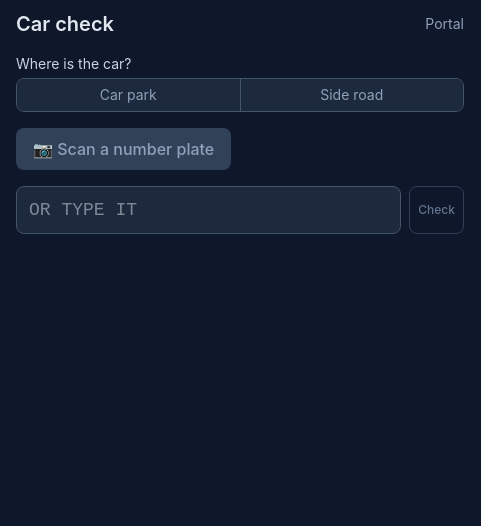
Test: Car check › ⛔ part of a registration is not that car: "XC" is Not found, and XCVB 675 is listed as another car
Click the radio button labelled "Side road": coordinates (351, 95) 240,79 -> 463,111
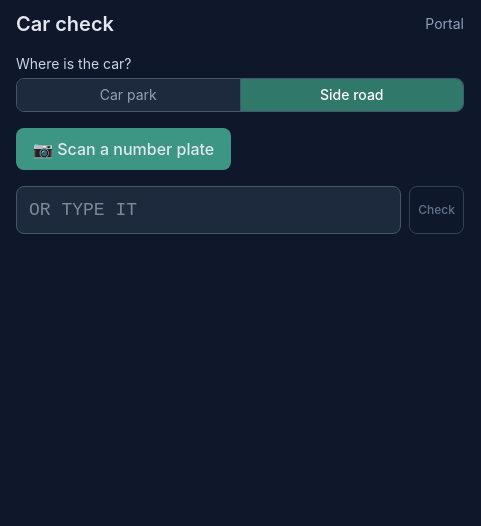
In the field with placeholder "Or type it": coordinates (209, 210) 16,186 -> 401,234, type "xc"
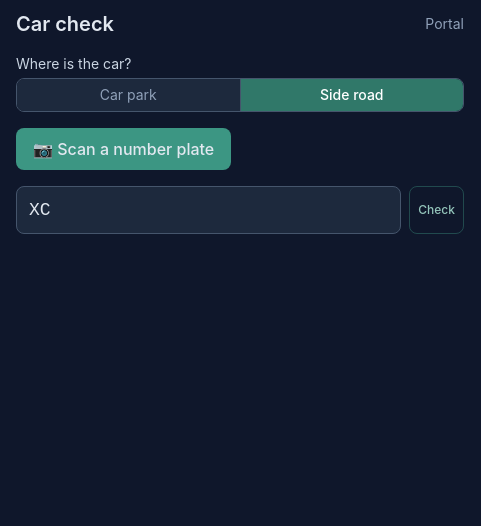
Click the button "Check": coordinates (437, 210) 409,186 -> 464,234
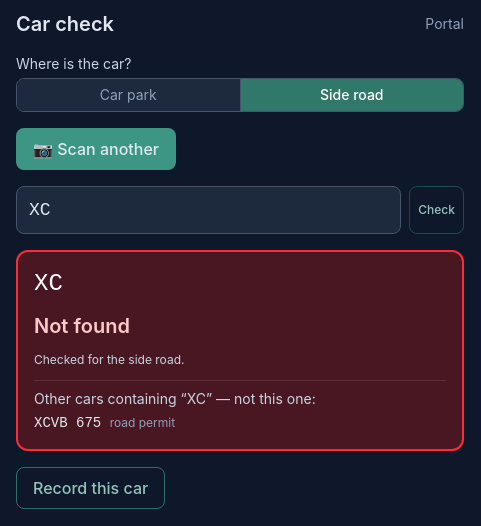
Expected: the element with test id "car-check-result" shows "Not found", 34,314 -> 130,338
Expected: the element with test id "car-check-others" shows "XCVB 675", 34,415 -> 110,431
